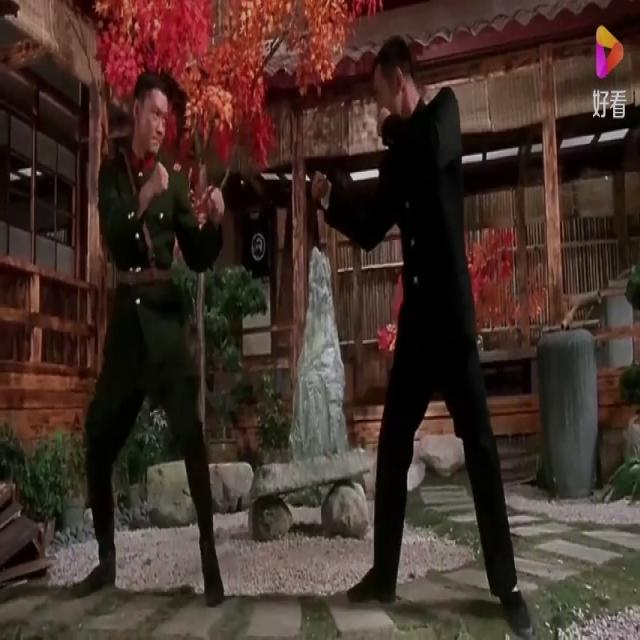fight: (307, 38, 531, 640), (86, 70, 226, 608)
